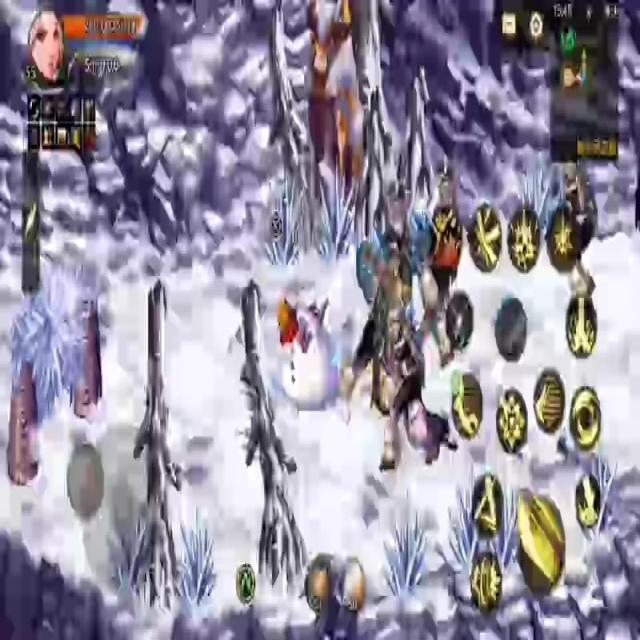player: (273, 293, 352, 429)
